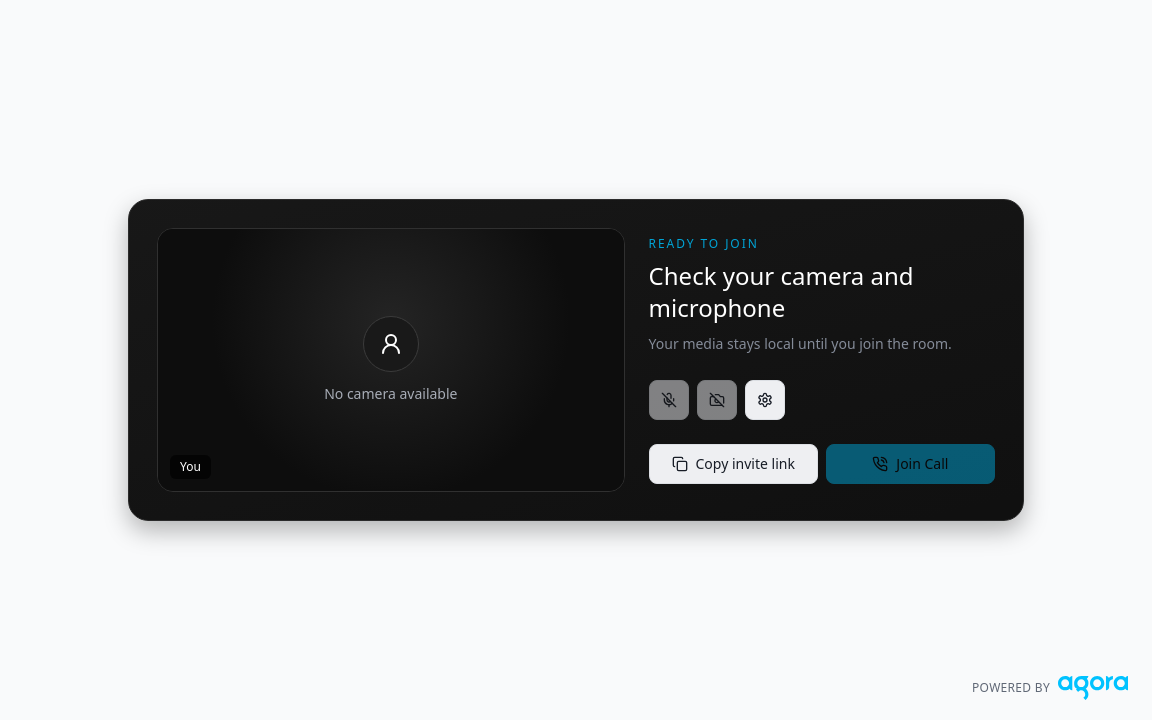
Test: starter UI › uses automatic devices until manual selection is requested
Click the button named "select devices".
click(765, 400)  # box [745,380,785,420]
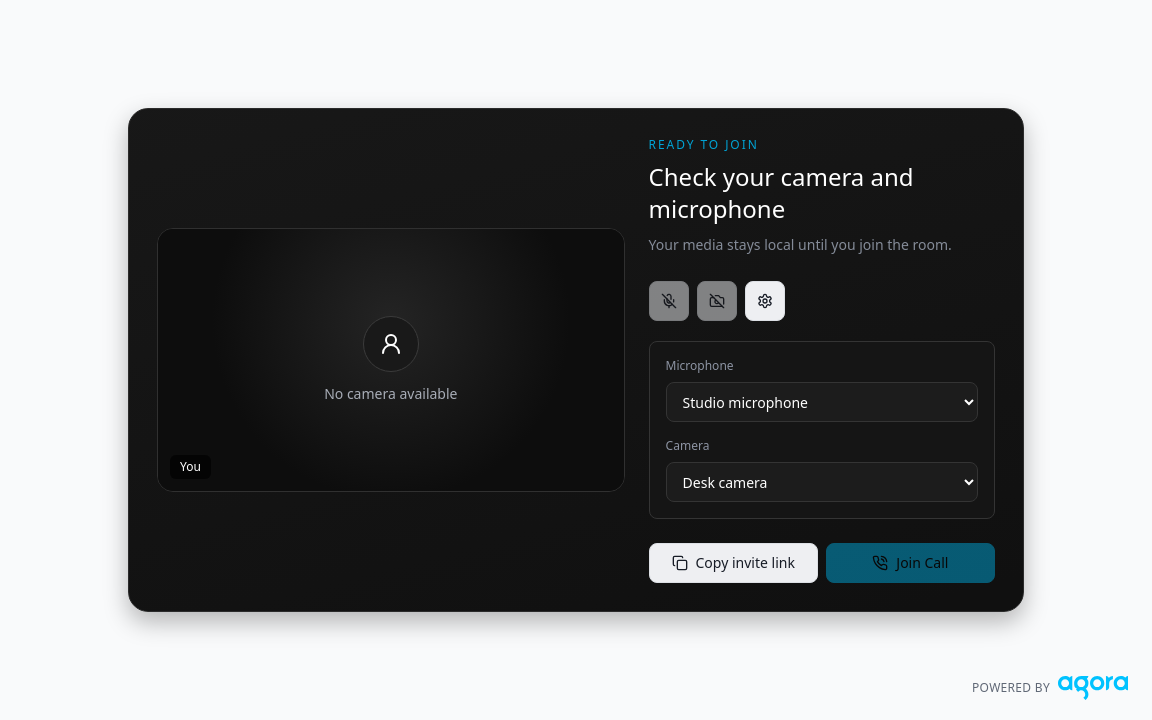
Now the dropdown labelled "Microphone" is shown, box [666,382,978,422]
Now the dropdown labelled "Camera" is shown, box [666,462,978,502]
